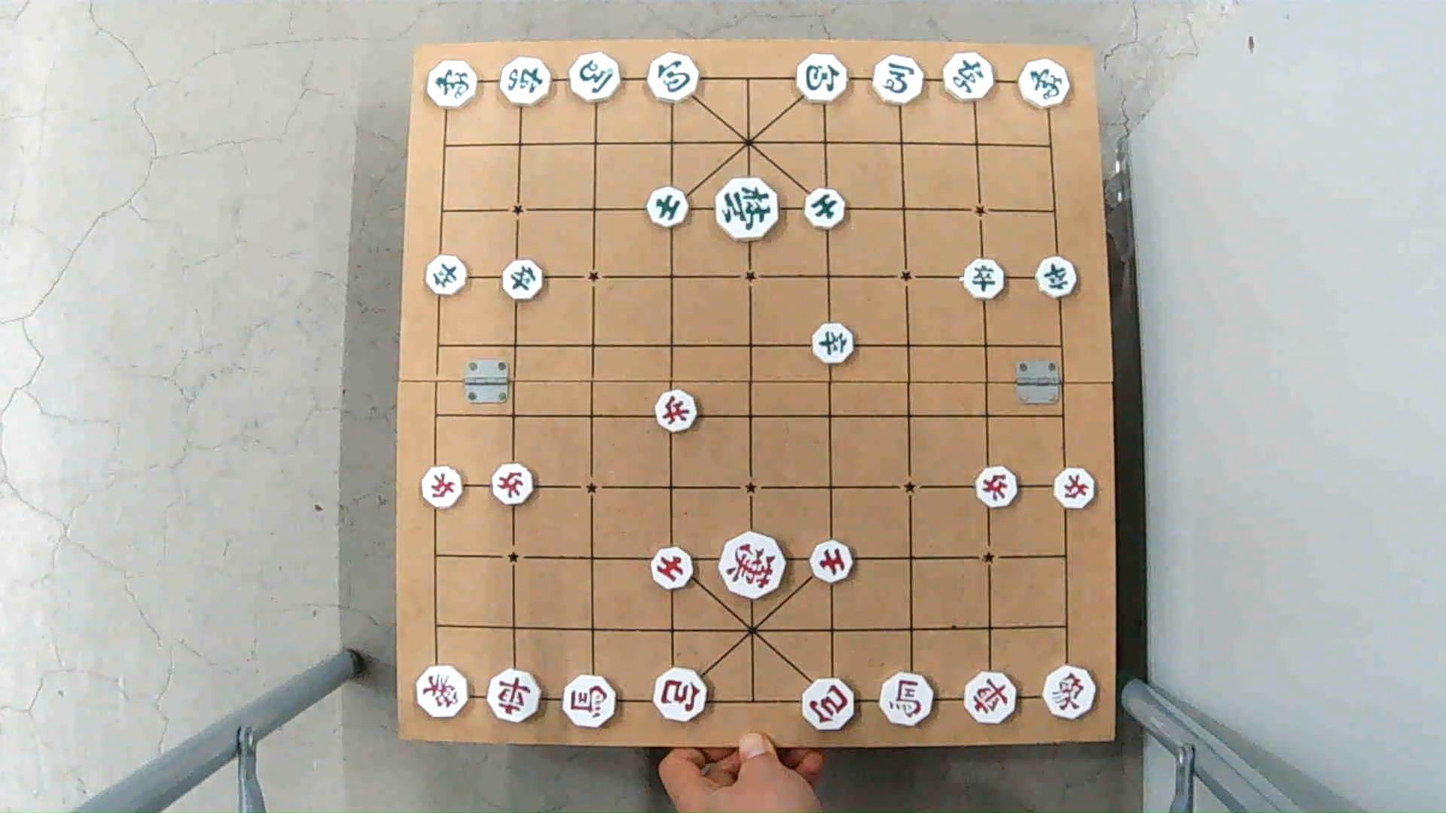cha_green: (497, 61, 554, 107), (942, 57, 997, 102)
cha_red: (484, 670, 544, 720), (962, 674, 1019, 723)
jol_green: (808, 325, 856, 361), (960, 262, 1009, 297), (501, 263, 547, 300), (428, 257, 473, 294), (1033, 260, 1078, 296)
jol_red: (652, 389, 702, 430), (489, 464, 537, 504), (1052, 467, 1097, 509), (420, 469, 469, 507), (975, 469, 1023, 507)
ma_green: (570, 56, 628, 102), (868, 59, 926, 102)
ma_red: (877, 674, 938, 722), (560, 676, 622, 723)
po_green: (643, 57, 701, 101), (793, 57, 850, 100)
po_red: (650, 671, 711, 720), (798, 682, 859, 729)
sa_green: (801, 190, 850, 226), (642, 188, 690, 224)
sa_red: (647, 546, 698, 589), (804, 543, 855, 580)
sang_green: (426, 62, 482, 108), (1016, 62, 1071, 107)
sang_red: (1041, 666, 1101, 715), (413, 667, 471, 714)
wang_green: (715, 180, 782, 239)
wang_red: (718, 537, 790, 595)
